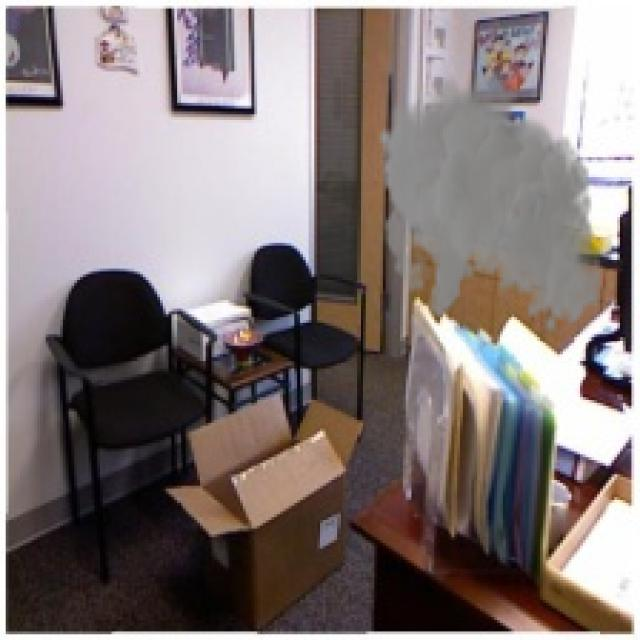smoke: (377, 63, 603, 334)
